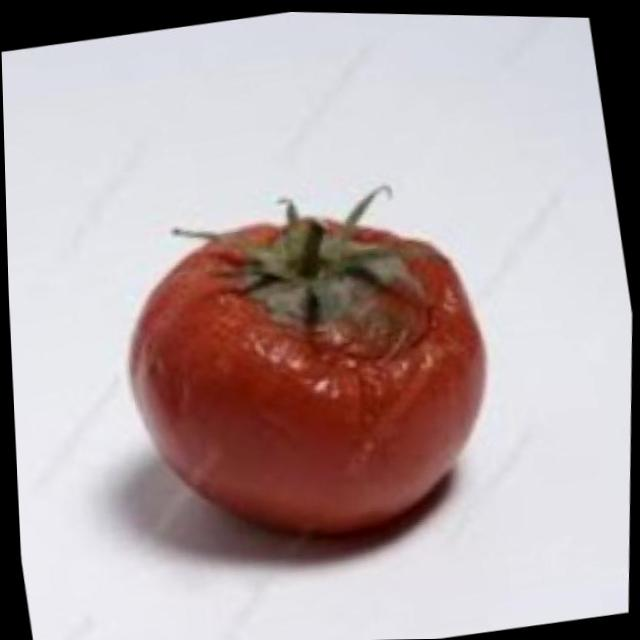tomato: (125, 203, 495, 542)
